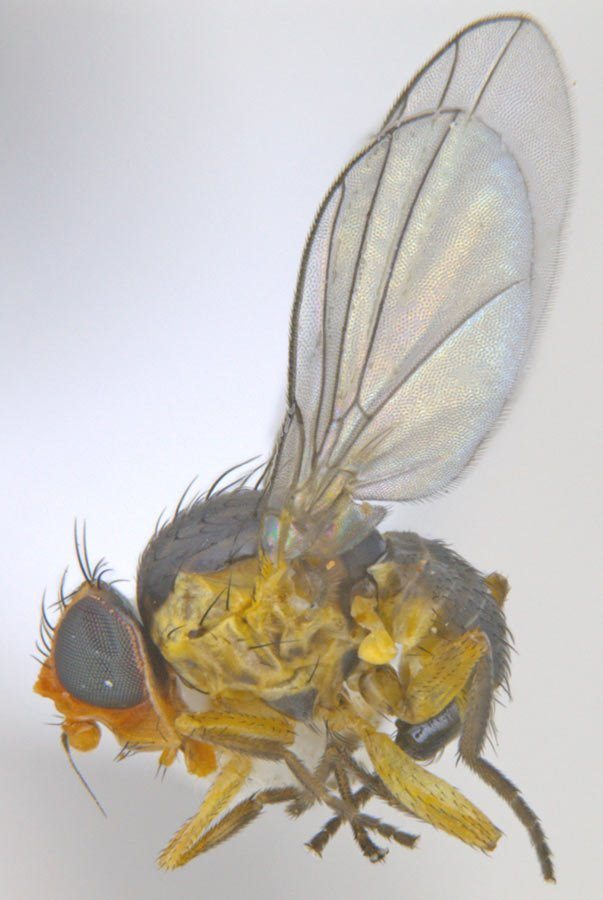Trifoli: (17, 45, 586, 899)
